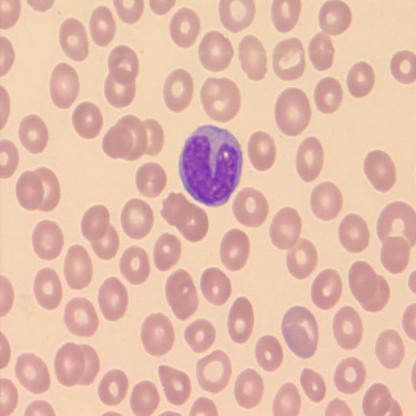Monocyte: (178, 121, 244, 209)
